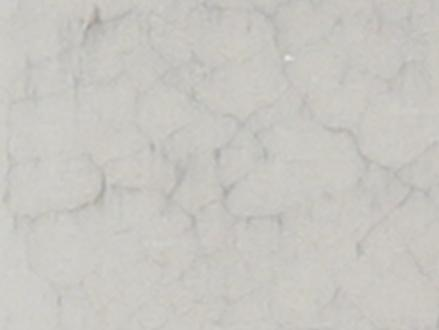fissura: (29, 7, 435, 259)
